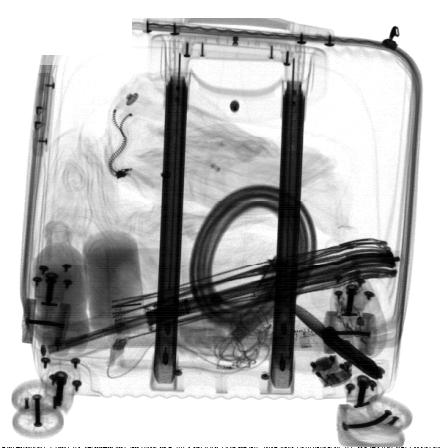Knife: (288, 305, 385, 380)
